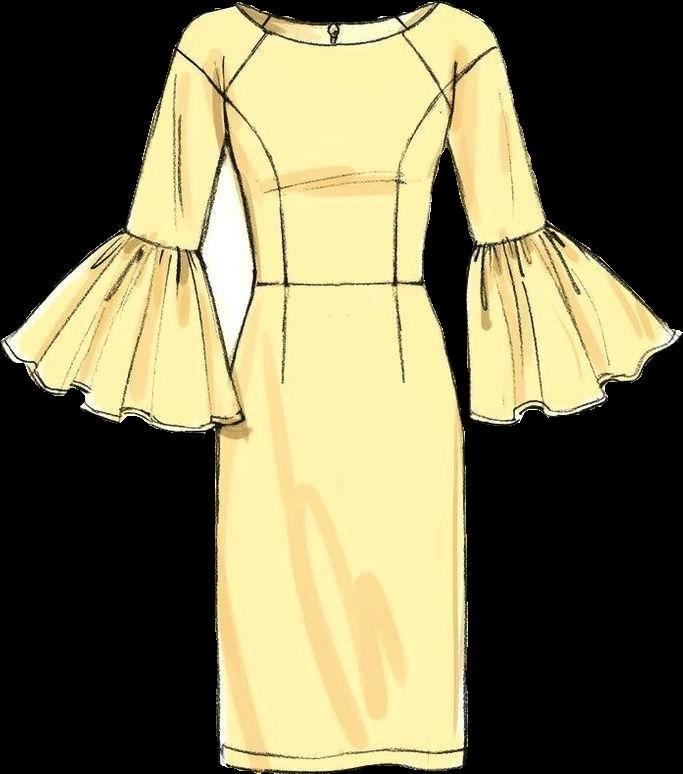Bodice: (218, 13, 454, 287)
Hemline: (218, 758, 469, 773)
Neckline: (261, 26, 407, 50)
Skirt: (214, 286, 479, 772)
Sleeve: (403, 5, 675, 428), (5, 6, 269, 432)
Sleeveline: (215, 14, 273, 149), (400, 13, 457, 148), (172, 45, 230, 101), (441, 44, 499, 96), (475, 218, 552, 254), (125, 226, 204, 256)
Waistline: (252, 280, 426, 294)
